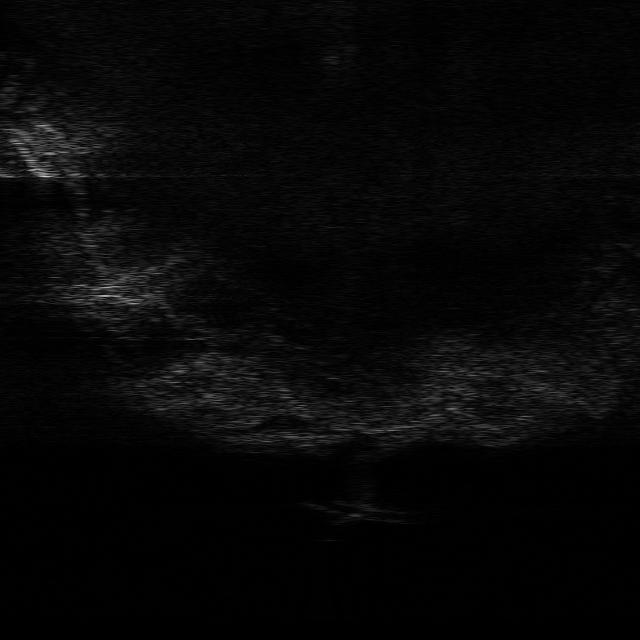plane: (301, 500, 410, 525)
